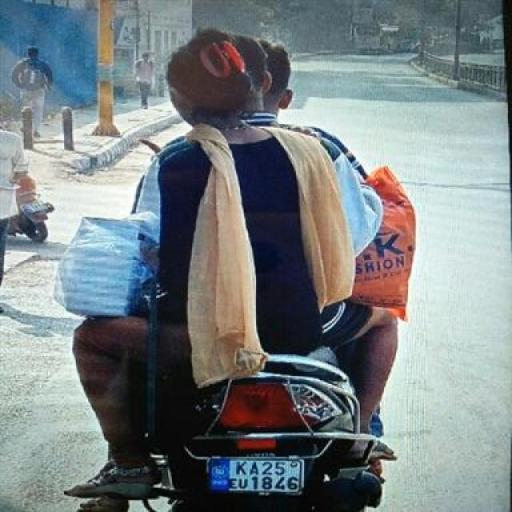tripple riding: (62, 26, 422, 370)
